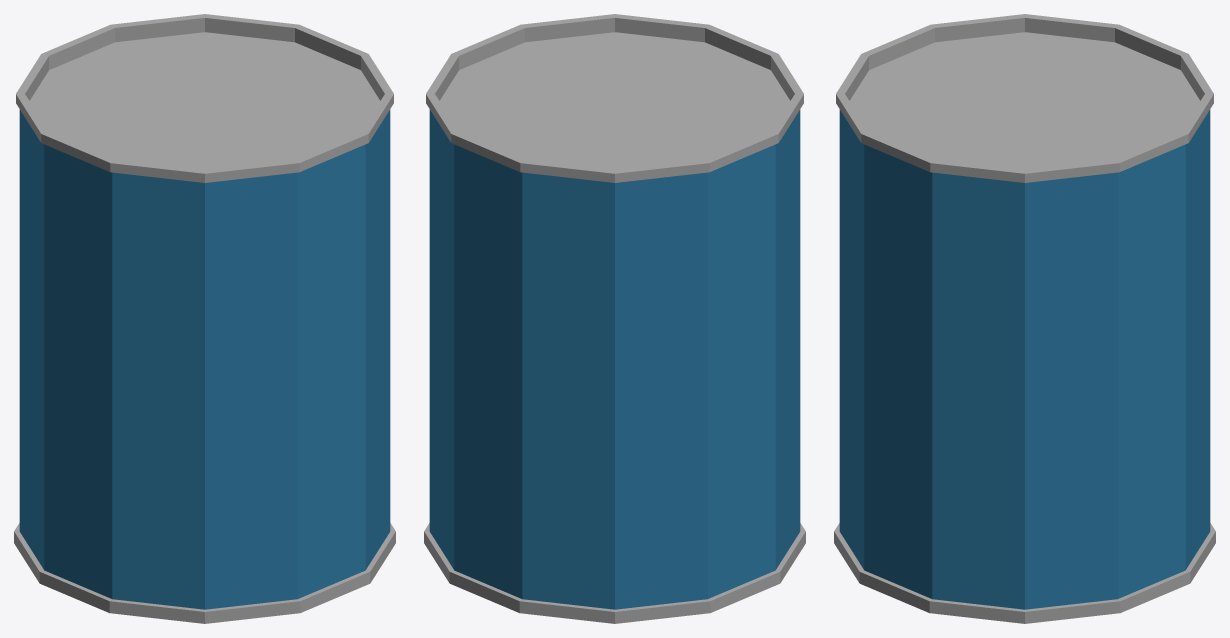
Rendered from Canned_Water_mat.fbx.
3 views of the same model, side by side, from view 1: azimuth 30°, elevation 25°; view 2: azimuth 150°, elevation 25°; view 3: azimuth 270°, elevation 25° (orthographic).
Visible parts, largest first — view 1: Canned_Water_mat; view 2: Canned_Water_mat; view 3: Canned_Water_mat.
Part boxes in pixels (x1,y1,x2,y2): Canned_Water_mat: (14, 14, 395, 623); Canned_Water_mat: (424, 14, 805, 623); Canned_Water_mat: (834, 14, 1215, 623).
Size of the model in its own units: 8 by 10.4 by 8.
